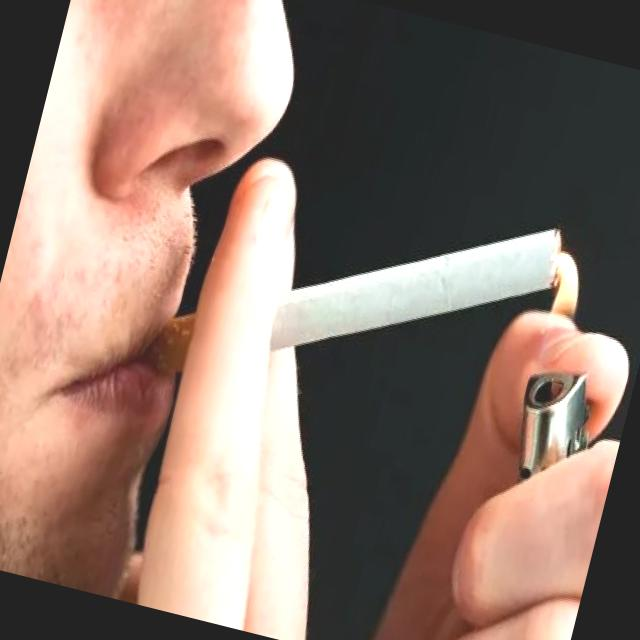smoke: (140, 134, 577, 476)
